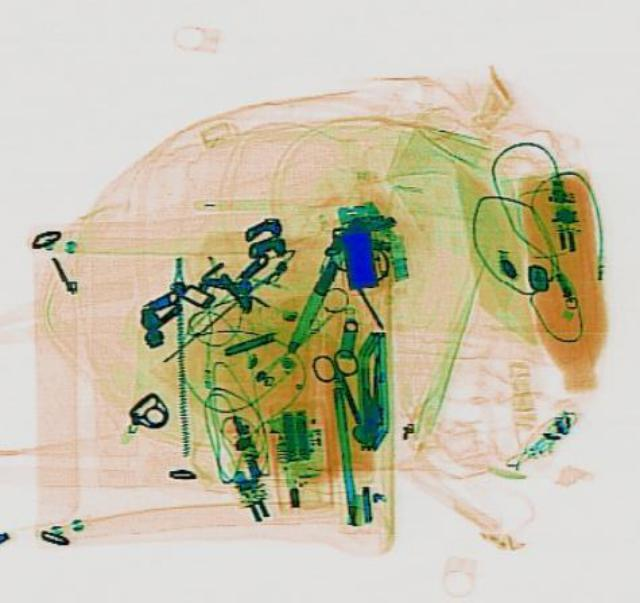Scissors: (304, 343, 382, 429)
